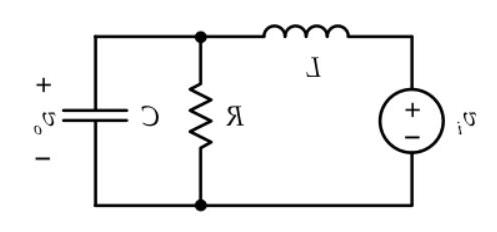Capacitor: (58, 77, 133, 143)
